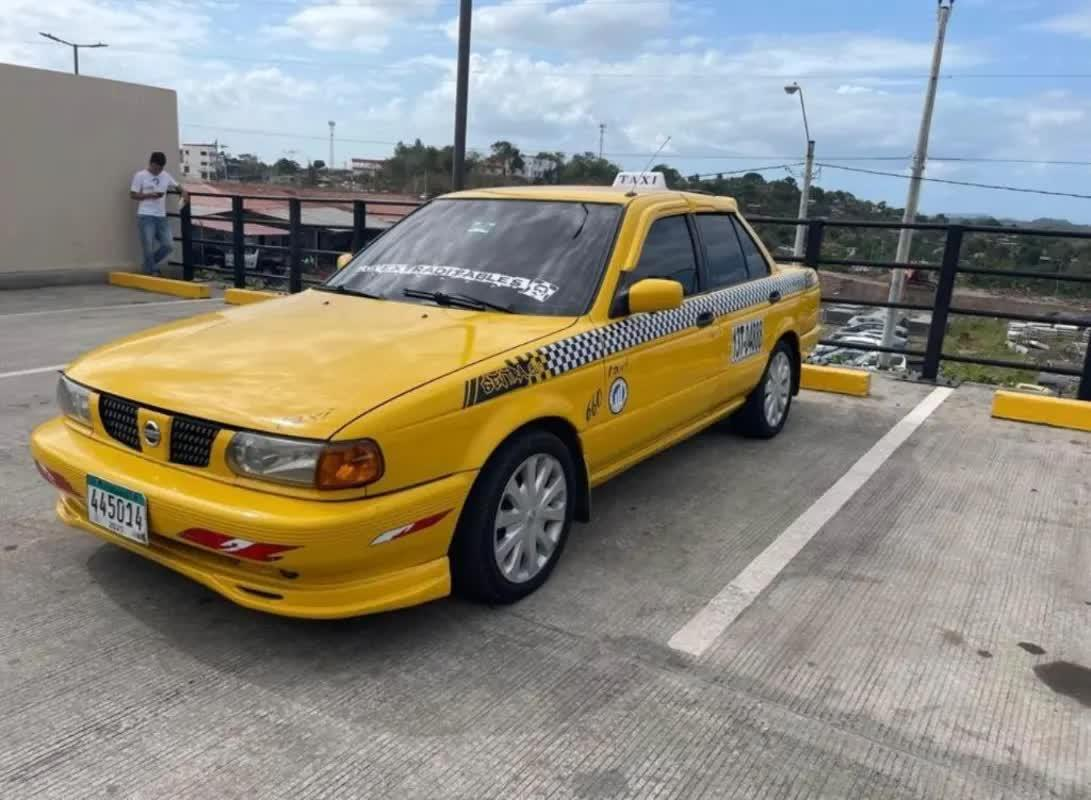taxi: (221, 121, 820, 641)
